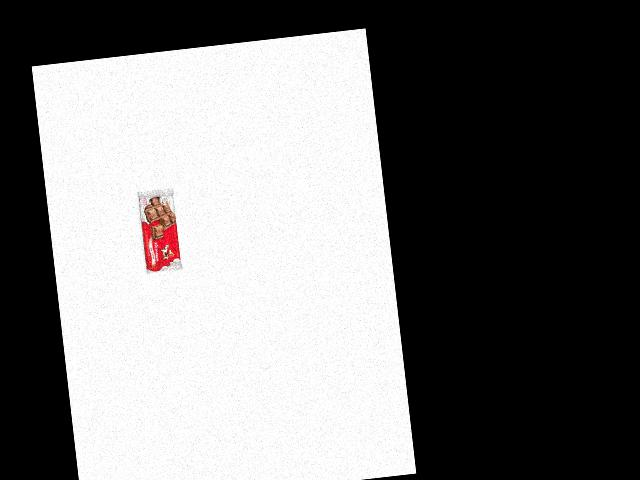chocolate: (136, 185, 183, 274)
